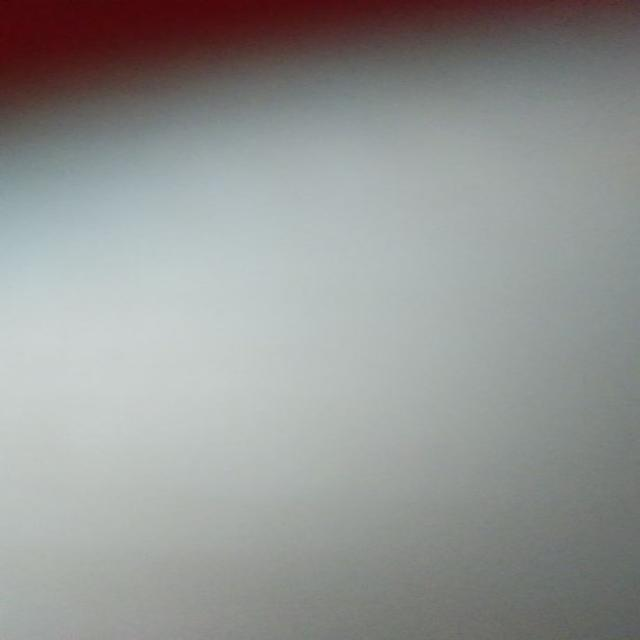license_plate: (3, 0, 637, 638)
